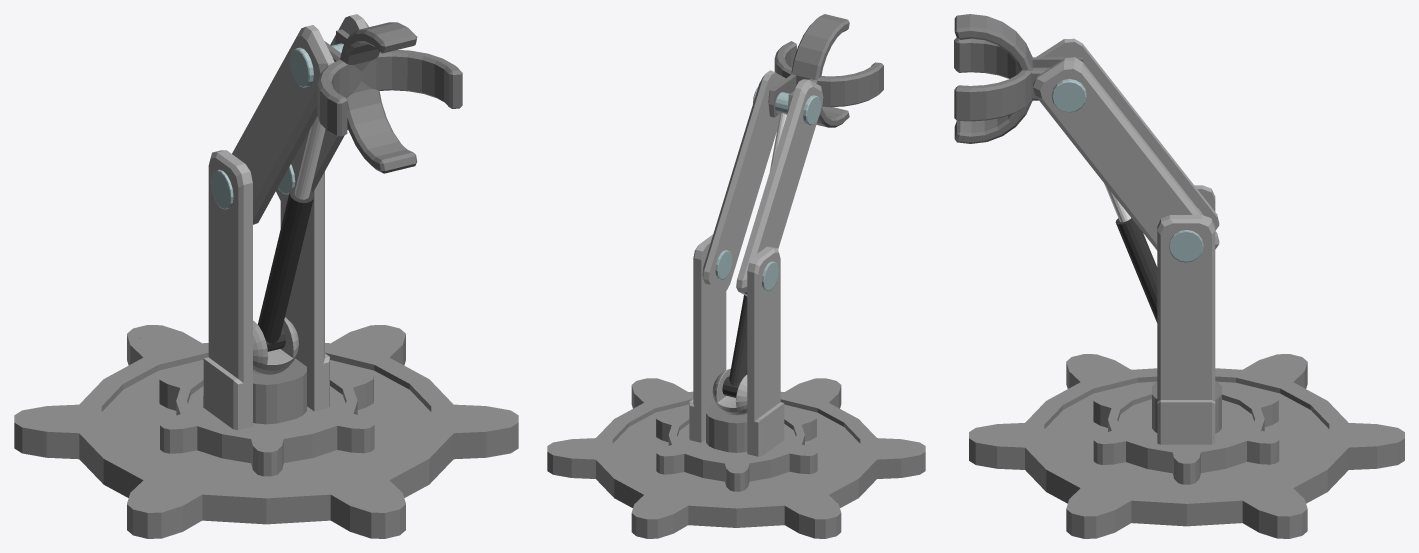
File: light_body.fbx
3 renders of one model, left to right at view 1: azimuth 30°, elevation 25°; view 2: azimuth 150°, elevation 25°; view 3: azimuth 270°, elevation 25°, orthographic. The views are drawn at different scales.
Parts seen in each view (by area): view 1: light_body; view 2: light_body; view 3: light_body.
Boxes of the visible parts, <box> form: light_body: <box>14,14,518,538</box>; light_body: <box>547,14,925,538</box>; light_body: <box>954,14,1404,538</box>.
Bounding box in the file's own units: 10.31 × 12.93 × 12.08.
1 material, 1 textured.
